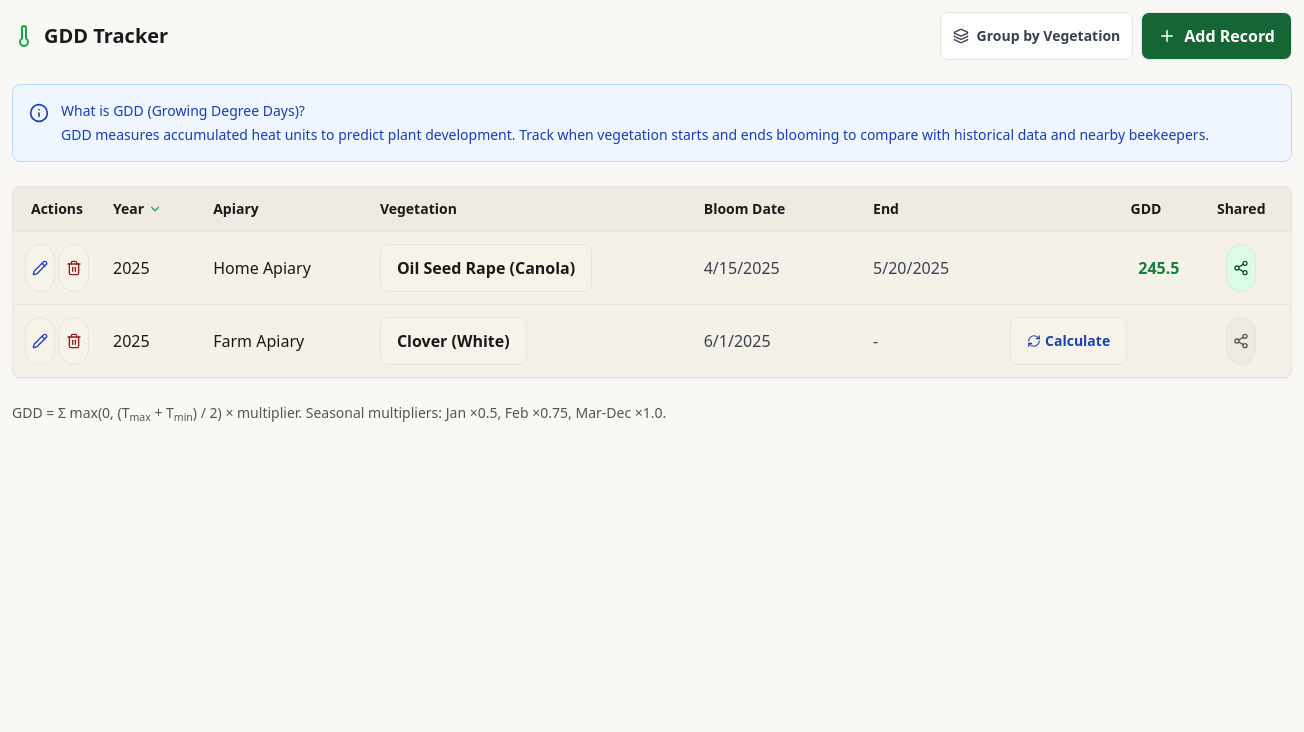
GDDTracker › Add Record Form › hides the form when Cancel is clicked
This screenshot has width=1304, height=732.
Click the button "Add Record".
click(1217, 36)  # box x1=1141 y1=12 x2=1292 y2=60
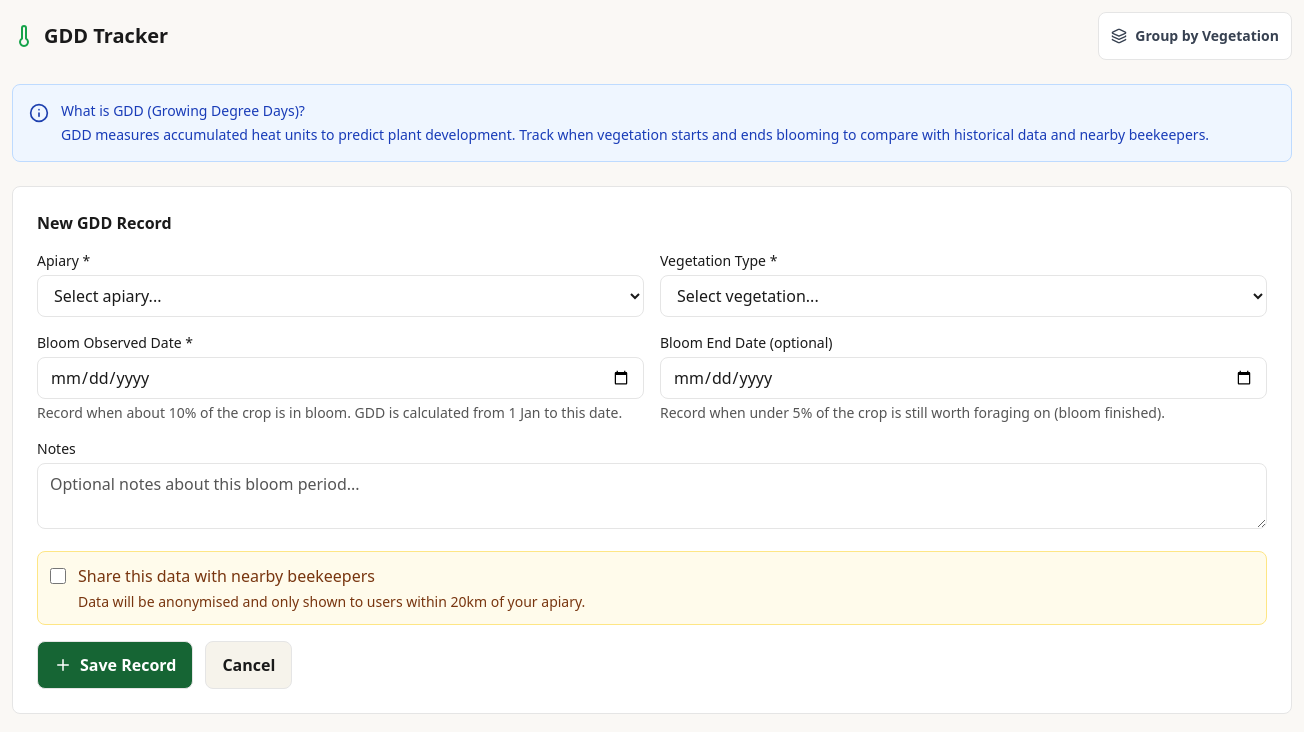
Now the heading "New GDD Record" is shown, box x1=37 y1=212 x2=172 y2=234
Click the button "Cancel".
click(249, 665)  # box x1=205 y1=641 x2=292 y2=689
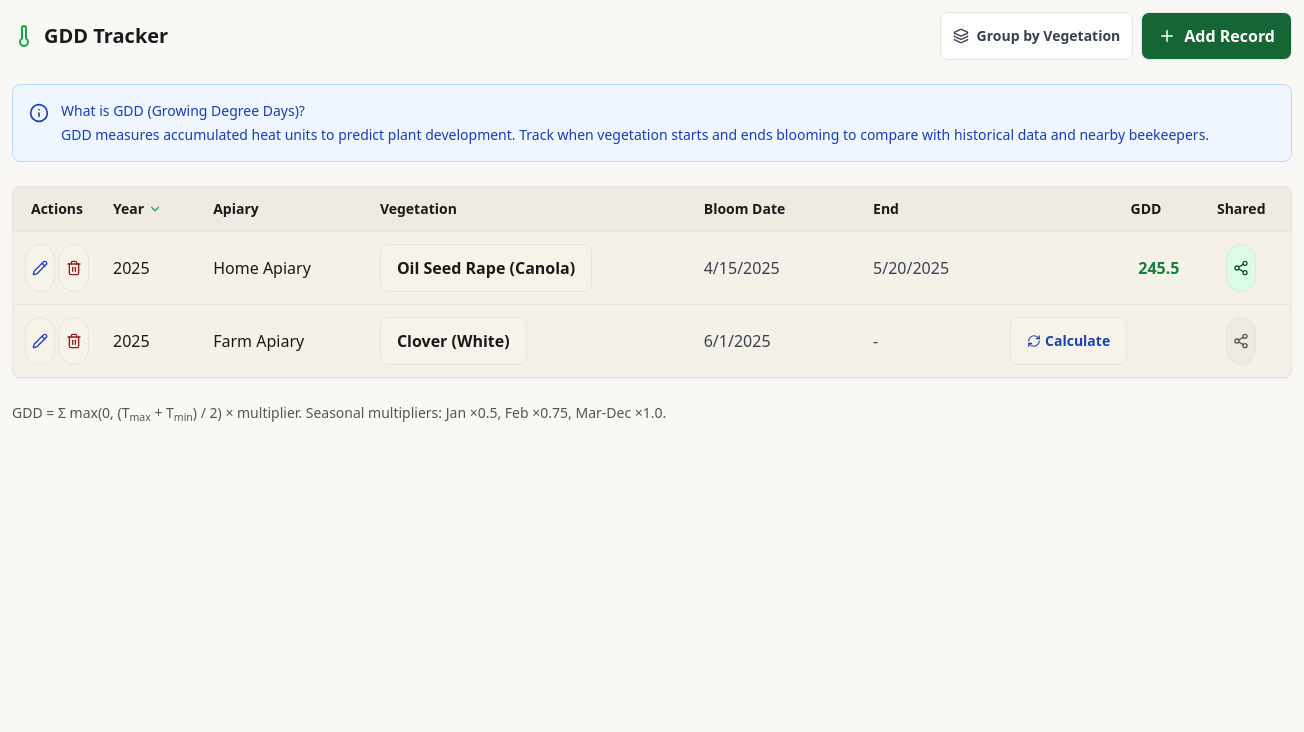
Now the heading "New GDD Record" is gone
